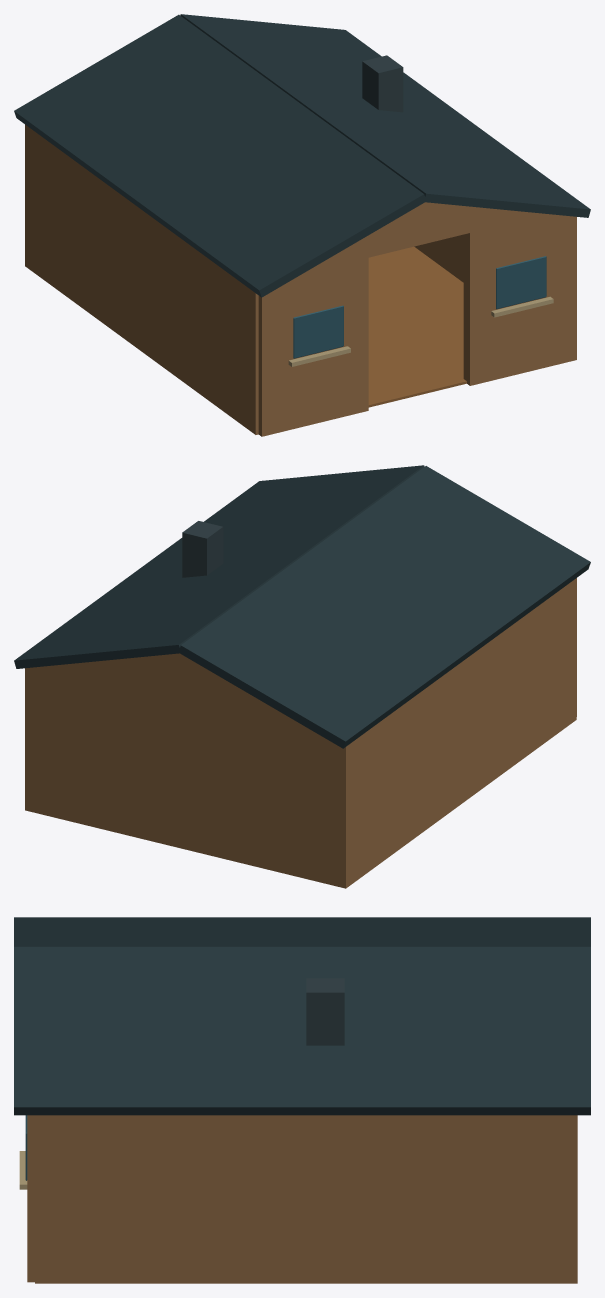
The model's file is building_home.glb.
The picture shows the model from 3 angles, top to bottom: view 1: azimuth 30°, elevation 25°; view 2: azimuth 150°, elevation 25°; view 3: azimuth 270°, elevation 25°; orthographic projection. The views are drawn at different scales.
Visible parts, largest first — view 1: DD_Hide_Roof_-1, DD_Keep_West, DD_Hide_Roof_1, DD_Keep_Floor, DD_Hide_Front_1, DD_Hide_Front_-1, DD_Cut_Front_1, DD_Hide_Gable_True, DD_Cut_Front_-1, DD_Hide_Window_1, DD_Hide_Window_-1, DD_Hide_Chimney (+3 smaller); view 2: DD_Hide_Roof_-1, DD_Keep_Back, DD_Keep_West, DD_Hide_Roof_1, DD_Hide_Gable_False, DD_Hide_Chimney; view 3: DD_Hide_Roof_1, DD_Hide_East, DD_Cut_East, DD_Hide_Roof_-1, DD_Hide_Chimney, DD_Keep_Back, DD_Hide_Front_1.
Part boxes in pixels (box(x1,y1,x2,y2)): DD_Hide_Roof_-1: box(14, 14, 424, 297); DD_Keep_West: box(28, 127, 258, 434); DD_Hide_Roof_1: box(180, 14, 590, 217); DD_Keep_Floor: box(368, 246, 466, 407); DD_Hide_Front_1: box(463, 214, 576, 384); DD_Hide_Front_-1: box(258, 258, 368, 436); DD_Cut_Front_1: box(463, 314, 576, 385); DD_Hide_Gable_True: box(303, 202, 546, 273); DD_Cut_Front_-1: box(258, 365, 368, 436); DD_Hide_Window_1: box(496, 256, 546, 309); DD_Hide_Window_-1: box(293, 305, 343, 358); DD_Hide_Chimney: box(362, 55, 403, 112); DD_Hide_Roof_-1: box(179, 466, 590, 748); DD_Keep_Back: box(25, 665, 352, 888); DD_Keep_West: box(349, 578, 576, 883); DD_Hide_Roof_1: box(14, 465, 424, 668); DD_Hide_Gable_False: box(58, 653, 301, 724); DD_Hide_Chimney: box(182, 521, 223, 577); DD_Hide_Roof_1: box(14, 947, 590, 1115); DD_Hide_East: box(35, 1115, 569, 1283); DD_Cut_East: box(35, 1229, 569, 1283); DD_Hide_Roof_-1: box(14, 917, 590, 946); DD_Hide_Chimney: box(306, 978, 344, 1045); DD_Keep_Back: box(562, 1115, 577, 1283); DD_Hide_Front_1: box(27, 1115, 34, 1281).
Size of the model in its own units: 5.89 by 3.72 by 7.55.
